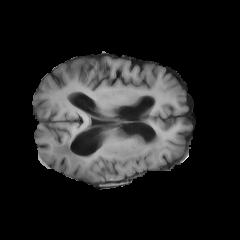glioma: (52, 135, 161, 182)
